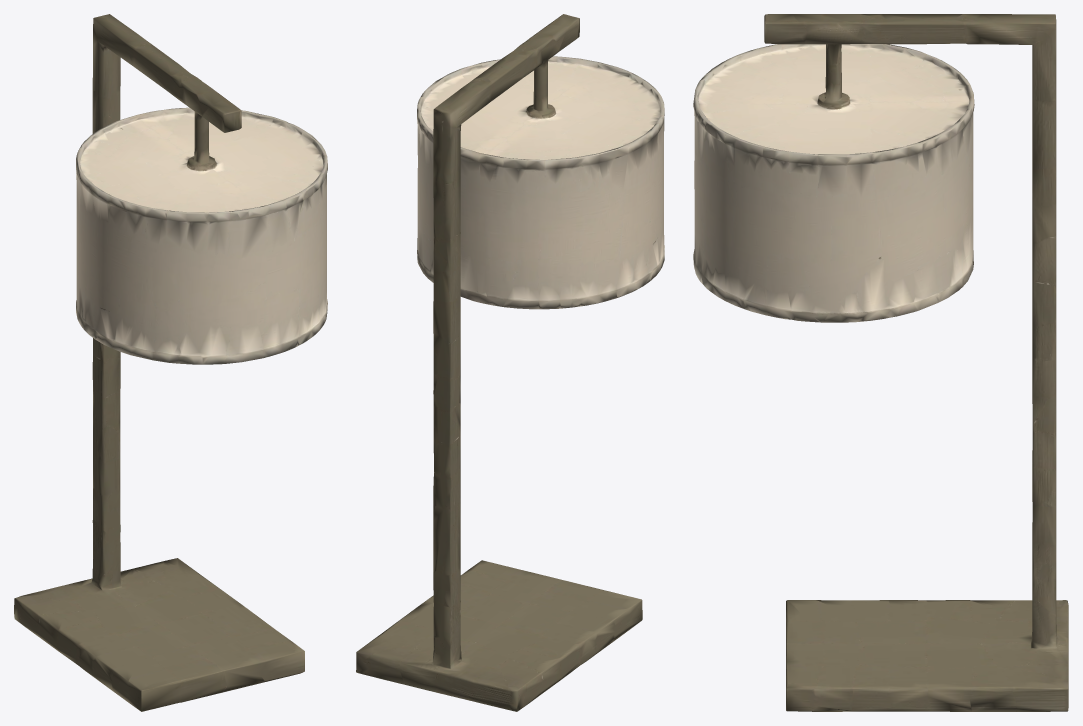
The model's file is Mid Century Desk Lamp.glb.
3 views of the same model, side by side, from view 1: azimuth 30°, elevation 25°; view 2: azimuth 150°, elevation 25°; view 3: azimuth 270°, elevation 25° (orthographic). The views are drawn at different scales.
Visible parts, largest first — view 1: Mesh_0.003; view 2: Mesh_0.003; view 3: Mesh_0.003.
Boxes of the visible parts, x1,y1,x2,y2 form: Mesh_0.003: (14,14,327,711); Mesh_0.003: (356,14,664,711); Mesh_0.003: (693,14,1068,711).
Size of the model in its own units: 0.2327 by 0.6 by 0.3142.
Materials: 1 (1 with a texture image).
